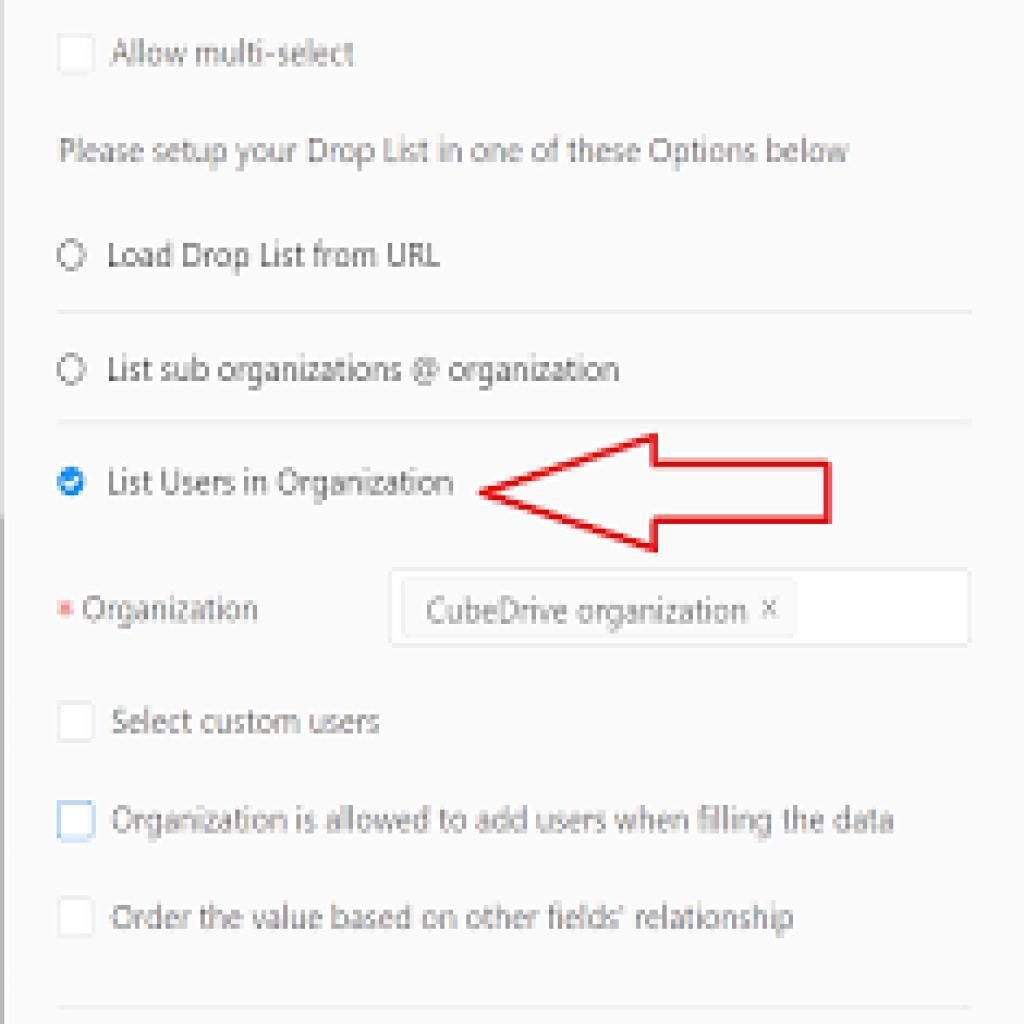button: (401, 578, 798, 638)
checkbox: (58, 33, 97, 79), (55, 802, 98, 843), (59, 896, 99, 940), (58, 702, 98, 744)
label: (110, 797, 897, 842), (110, 901, 798, 940), (105, 351, 626, 391), (101, 234, 447, 277), (107, 465, 460, 504), (111, 702, 383, 740), (110, 40, 362, 75)
radio: (55, 237, 90, 277), (56, 352, 90, 391), (56, 467, 90, 498)
